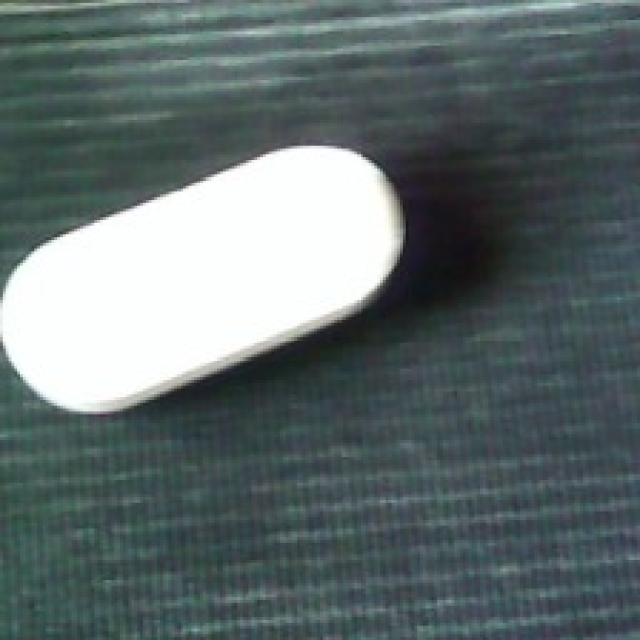no-defect: (0, 141, 410, 412)
